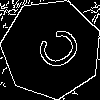C: (26, 24, 85, 79)
